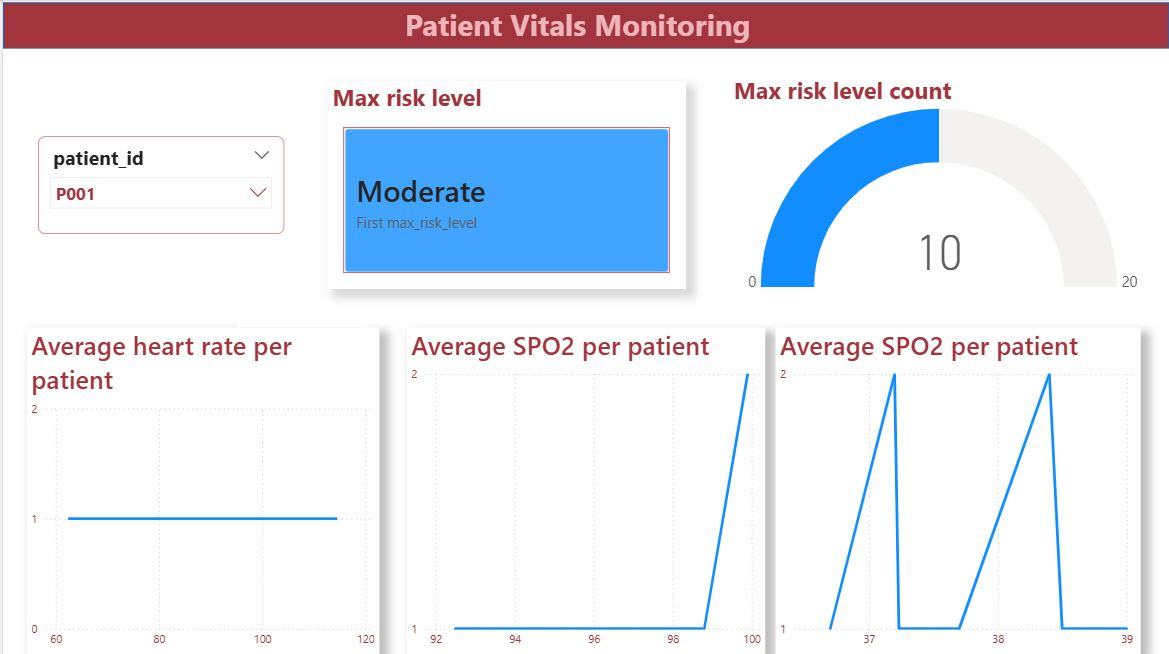

This screenshot's page, from the dashboard's own definition file:
{"tool":"powerbi","page":{"name":"Page 1","canvas":[1280,720],"ordinal":0},"visuals":[{"type":"lineChart","title":"Average heart rate per patient","fields":{"Category":["patient_risk_analytics.avg_heart_rate"],"Y":["CountNonNull(patient_risk_analytics.patient_id)"]},"box":[26.1,359.5,387,360.9],"z":0},{"type":"slicer","fields":{"Values":["patient_risk_analytics.patient_id"]},"box":[38.4,149.6,270.3,107],"z":1000},{"type":"lineChart","title":"Average SPO2 per patient","fields":{"Y":["CountNonNull(patient_risk_analytics.patient_id)"],"Category":["patient_risk_analytics.avg_spo2"]},"box":[443.2,359.5,393.8,360.9],"z":2000},{"type":"lineChart","title":"Average SPO2 per patient","fields":{"Y":["CountNonNull(patient_risk_analytics.patient_id)"],"Category":["patient_risk_analytics.avg_temperature"]},"box":[848,359.5,400.7,360.9],"z":3000},{"type":"gauge","title":"Max risk level count","fields":{"Y":["CountNonNull(patient_risk_analytics.max_risk_level)"]},"box":[797.3,81,469.3,244.3],"z":4000},{"type":"textbox","box":[356.8,0,568.1,53.5],"z":5000},{"type":"textbox","box":[258,328,141.3,31.6],"z":5002},{"type":"shape","box":[0,2.7,1280.3,50.8],"z":5003},{"type":"textbox","box":[436.4,0,400.7,59],"z":5004},{"type":"cardVisual","title":"Max risk level","fields":{"Data":["Min(patient_risk_analytics.max_risk_level)"]},"box":[356.8,89.2,392.5,227.8],"z":5005}]}

Visuals, with their boxes in screenshot pixels (x1, y1, x2, y2), scaled from the page's 1280x720 canvas onto the 1169x654 screenshot:
"Average heart rate per patient" lineChart: x1=24, y1=327, x2=377, y2=653
slicer - patient_risk_analytics.patient_id: x1=35, y1=136, x2=282, y2=233
"Average SPO2 per patient" lineChart: x1=405, y1=327, x2=764, y2=653
"Average SPO2 per patient" lineChart: x1=774, y1=327, x2=1140, y2=653
"Max risk level count" gauge: x1=728, y1=74, x2=1157, y2=295
textbox: x1=326, y1=0, x2=845, y2=49
textbox: x1=236, y1=298, x2=365, y2=327
shape: x1=0, y1=2, x2=1168, y2=49
textbox: x1=399, y1=0, x2=765, y2=54
"Max risk level" cardVisual: x1=326, y1=81, x2=684, y2=288
